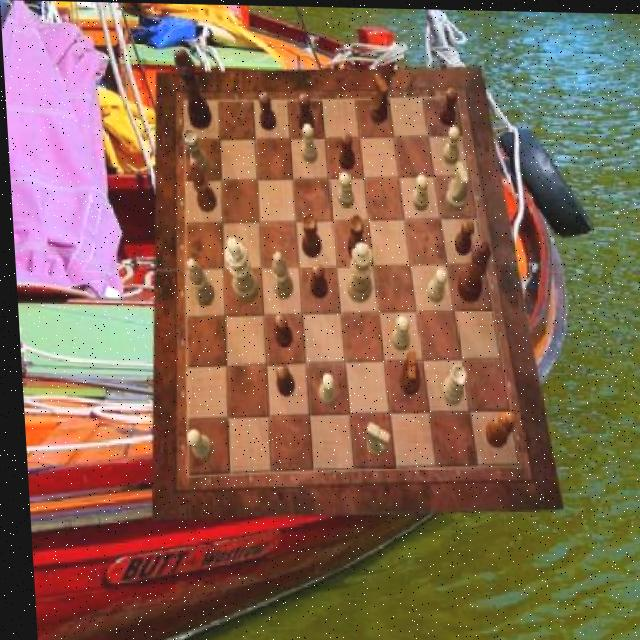bishop: (187, 157, 214, 212), (478, 410, 513, 448)
black-bishop: (173, 47, 212, 128)
black-king: (368, 71, 390, 122), (394, 348, 417, 394)
black-knight: (451, 217, 474, 254), (438, 84, 459, 123), (258, 92, 276, 131), (335, 131, 353, 168), (270, 313, 289, 348), (297, 93, 314, 132), (272, 363, 291, 397), (306, 264, 325, 298)
black-pawn: (452, 235, 492, 302)
black-queen: (297, 211, 319, 257), (342, 214, 363, 260)
black-rook: (184, 257, 213, 305), (268, 251, 291, 299)
white-bishop: (220, 236, 256, 302)
white-king: (443, 160, 469, 210), (360, 421, 386, 456)
white-knight: (183, 429, 209, 462), (423, 266, 445, 301), (441, 124, 460, 163), (298, 122, 316, 162), (388, 315, 407, 351), (409, 173, 428, 209), (312, 373, 331, 407), (336, 170, 353, 207)
white-pawn: (342, 240, 372, 302)
white-queen: (181, 128, 208, 174), (437, 363, 463, 405)
